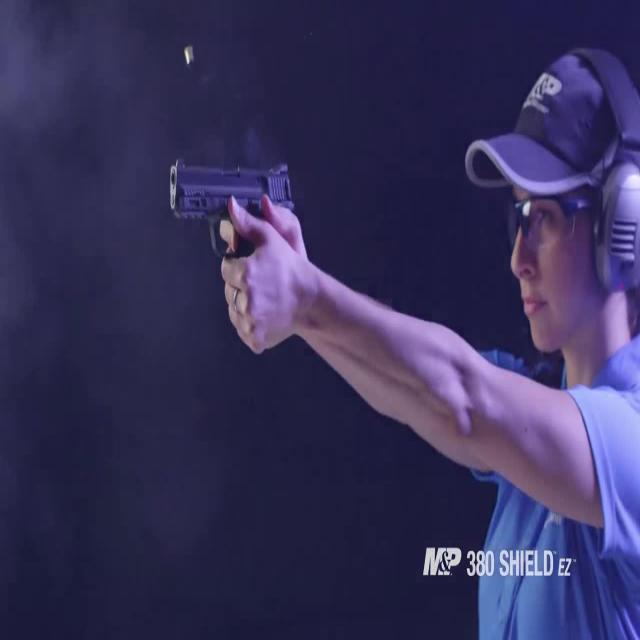weapons: (156, 133, 310, 346)
